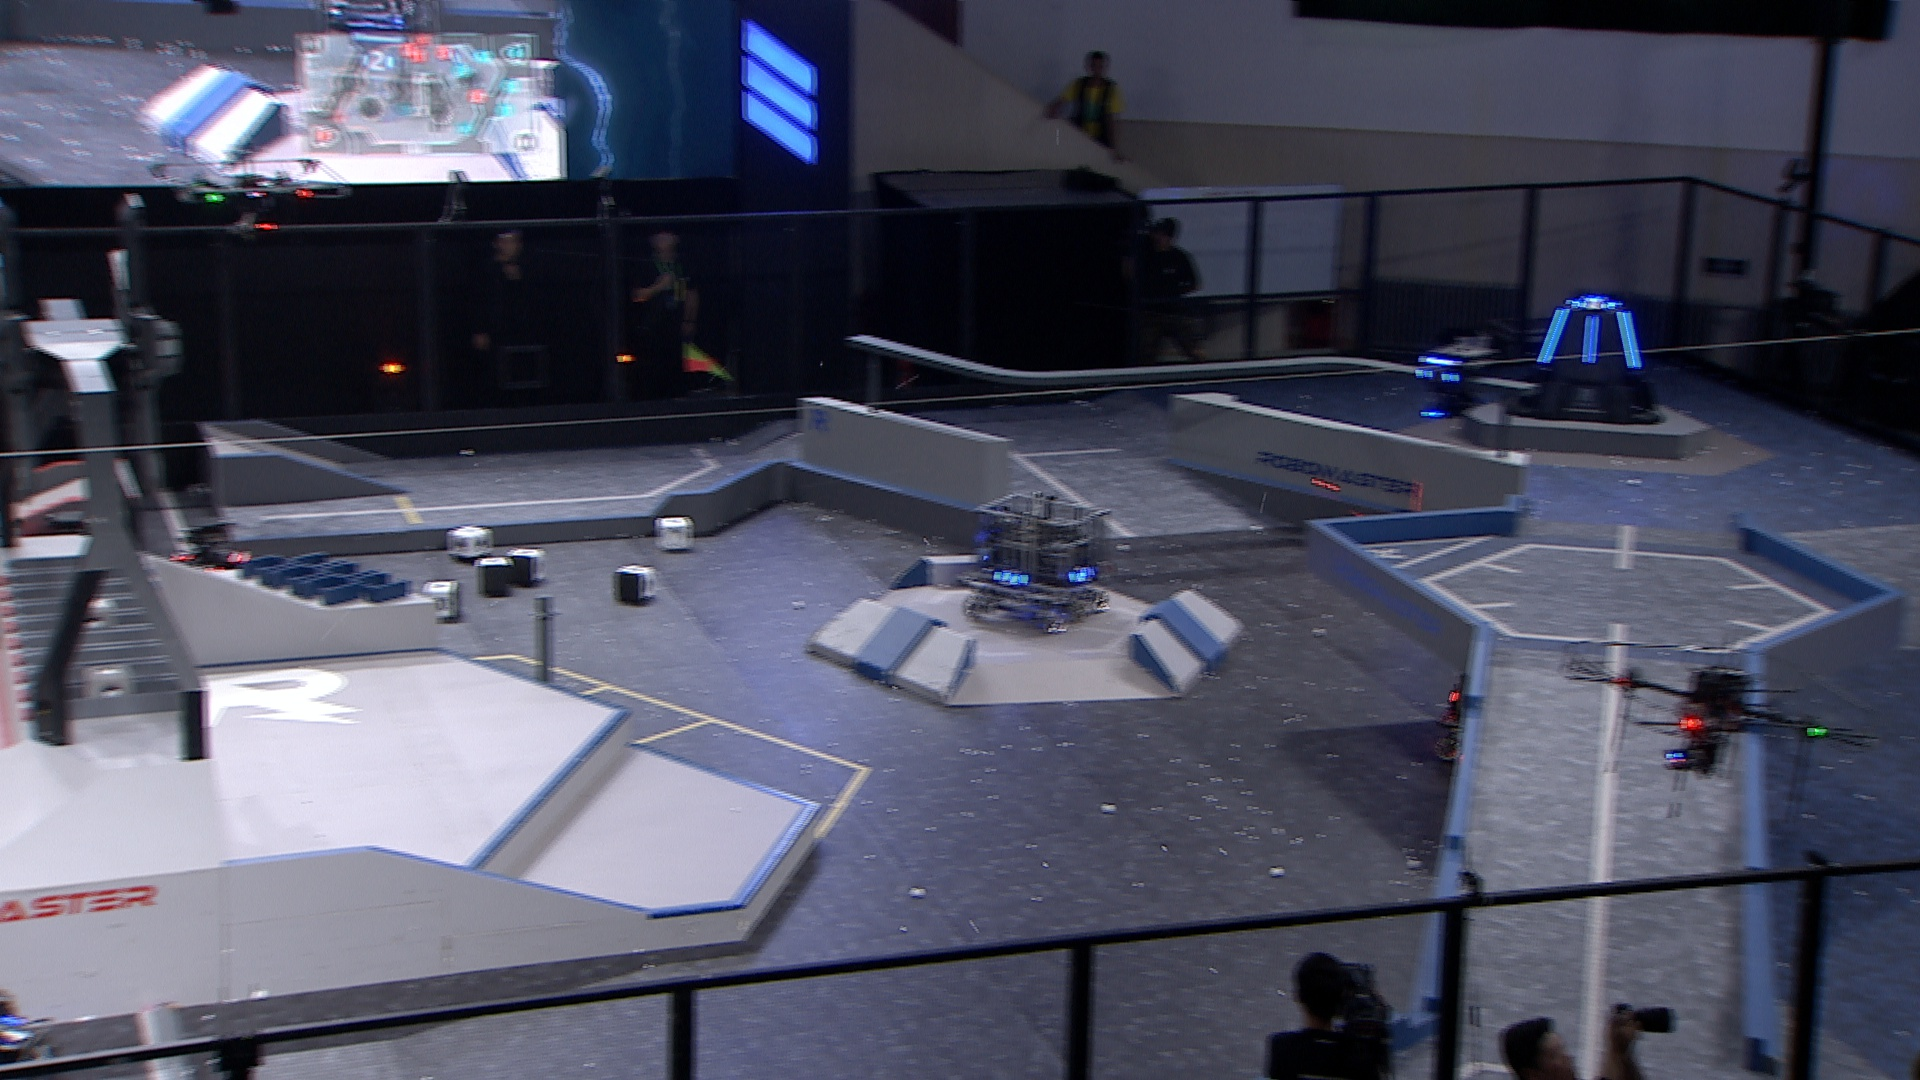armor: (1534, 309, 1571, 367), (1615, 310, 1644, 371), (1582, 315, 1604, 367), (994, 566, 1033, 588), (1414, 367, 1458, 385), (1571, 295, 1618, 311), (1069, 564, 1096, 584)
base: (1495, 290, 1669, 423)
car: (959, 491, 1117, 638), (160, 518, 272, 597)
watcher: (1408, 342, 1490, 423)
